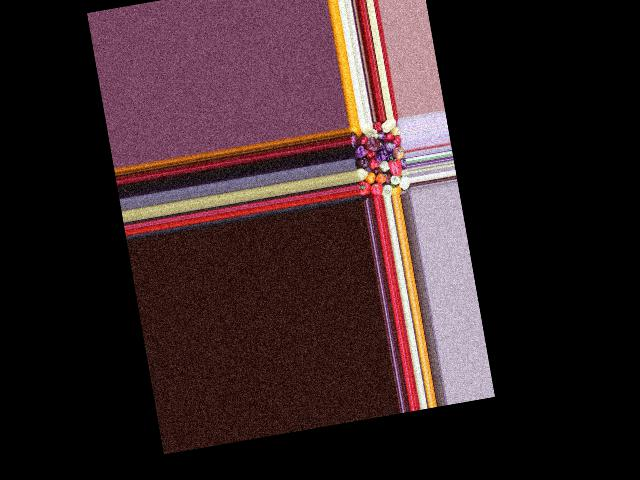bell_pepper: (380, 182, 392, 197)
